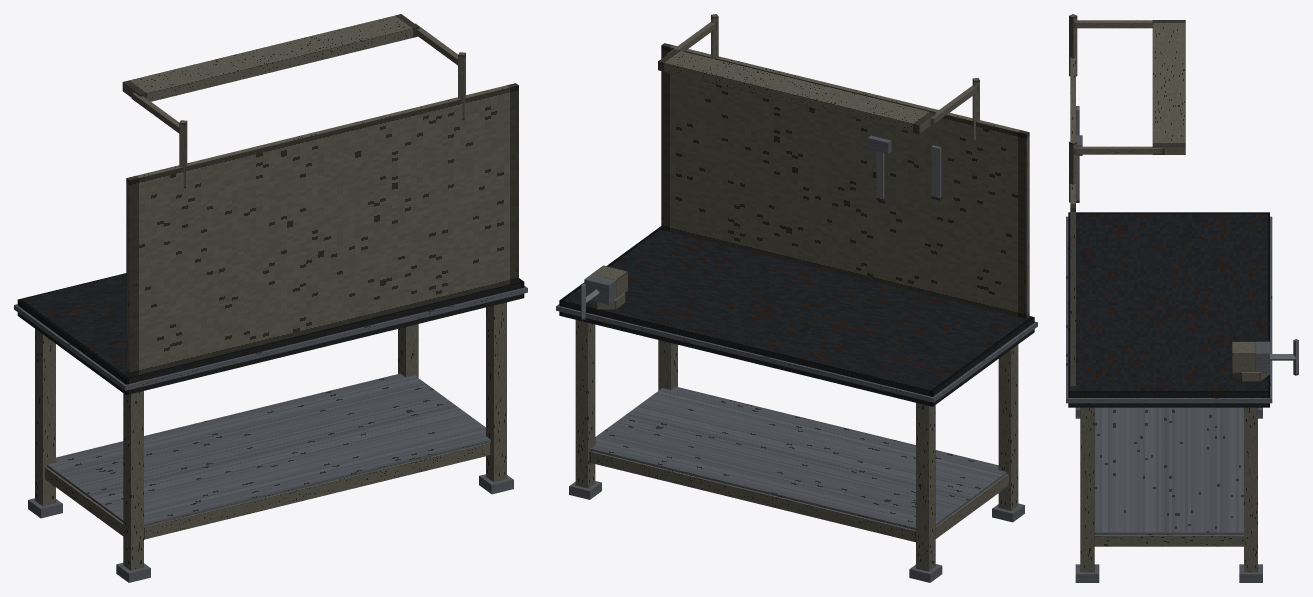
Rendered from work_bench_habitation_worn.glb.
3 views of the same model, side by side, from view 1: azimuth 30°, elevation 25°; view 2: azimuth 150°, elevation 25°; view 3: azimuth 270°, elevation 25° (orthographic). The views are drawn at different scales.
Visible parts, largest first — view 1: work_bench_habitation_worn; view 2: work_bench_habitation_worn; view 3: work_bench_habitation_worn.
Part boxes in pixels (box(x1,y1,x2,y2)): work_bench_habitation_worn: box(14, 14, 527, 582); work_bench_habitation_worn: box(556, 14, 1037, 582); work_bench_habitation_worn: box(1066, 14, 1298, 582).
Size of the model in its own units: 1.82 by 1.94 by 0.982.
5 materials, 5 textured.
